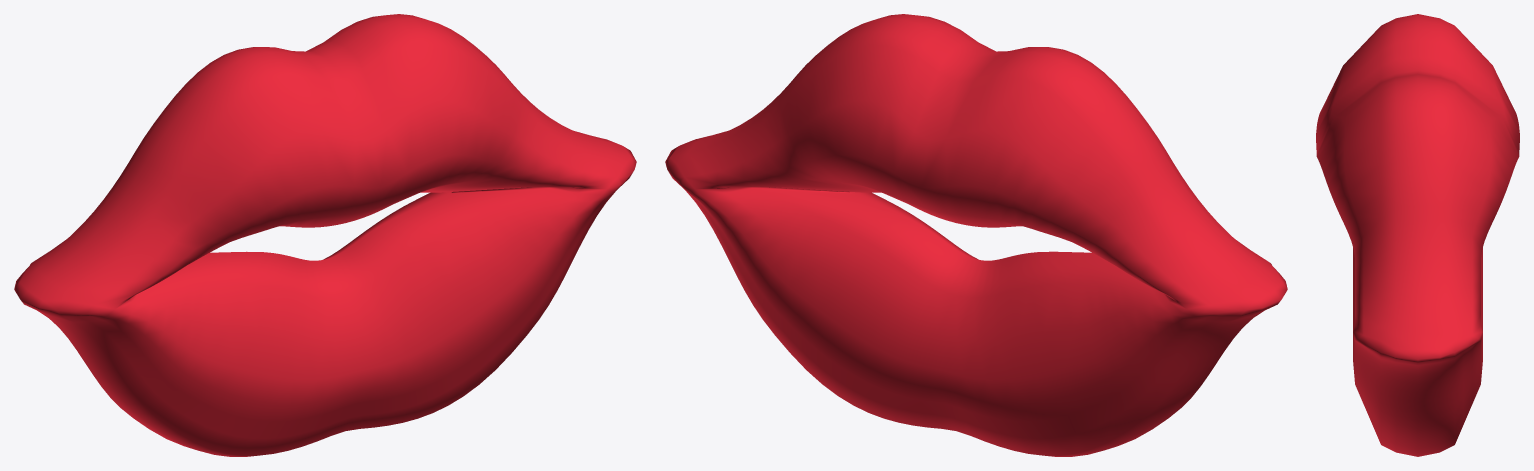
File: Kiss.fbx
The picture shows the model from 3 angles, left to right: view 1: azimuth 30°, elevation 25°; view 2: azimuth 150°, elevation 25°; view 3: azimuth 270°, elevation 25°; orthographic projection. The views are drawn at different scales.
Parts seen in each view (by area): view 1: Kiss; view 2: Kiss; view 3: Kiss.
Part boxes in pixels (bbox=[...]): Kiss: bbox=[14, 14, 636, 456]; Kiss: bbox=[665, 14, 1287, 456]; Kiss: bbox=[1316, 14, 1519, 456].
Size of the model in its own units: 106 by 65.35 by 33.5.
1 material, 1 textured.
